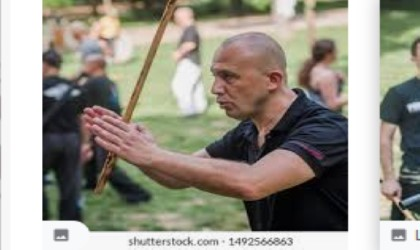baston_e: (120, 3, 180, 108)
baston_v: (91, 182, 104, 200)
